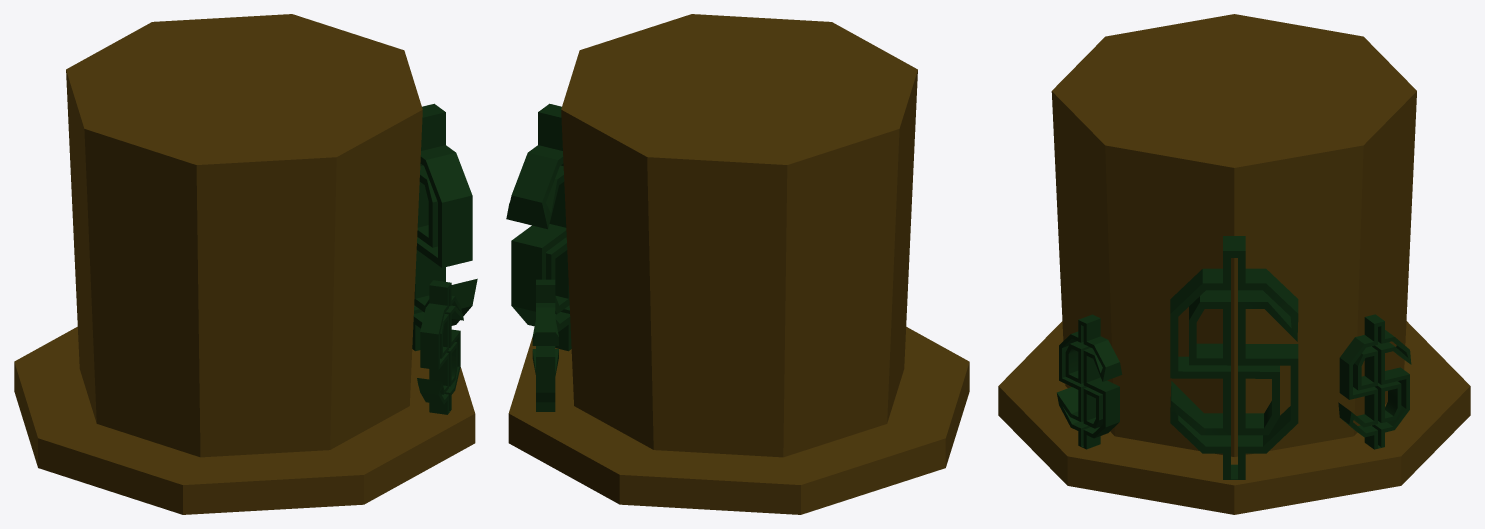
The model's file is coolhat.fbx.
The picture shows the model from 3 angles, left to right: view 1: azimuth 30°, elevation 25°; view 2: azimuth 150°, elevation 25°; view 3: azimuth 270°, elevation 25°; orthographic projection.
Visible parts, largest first — view 1: Coolhat; view 2: Coolhat; view 3: Coolhat.
Boxes of the visible parts, x1,y1,x2,y2 form: Coolhat: [14, 14, 477, 514]; Coolhat: [506, 14, 969, 514]; Coolhat: [998, 14, 1470, 514].
Bounding box in the file's own units: 0.5675 × 0.4308 × 0.5675.
